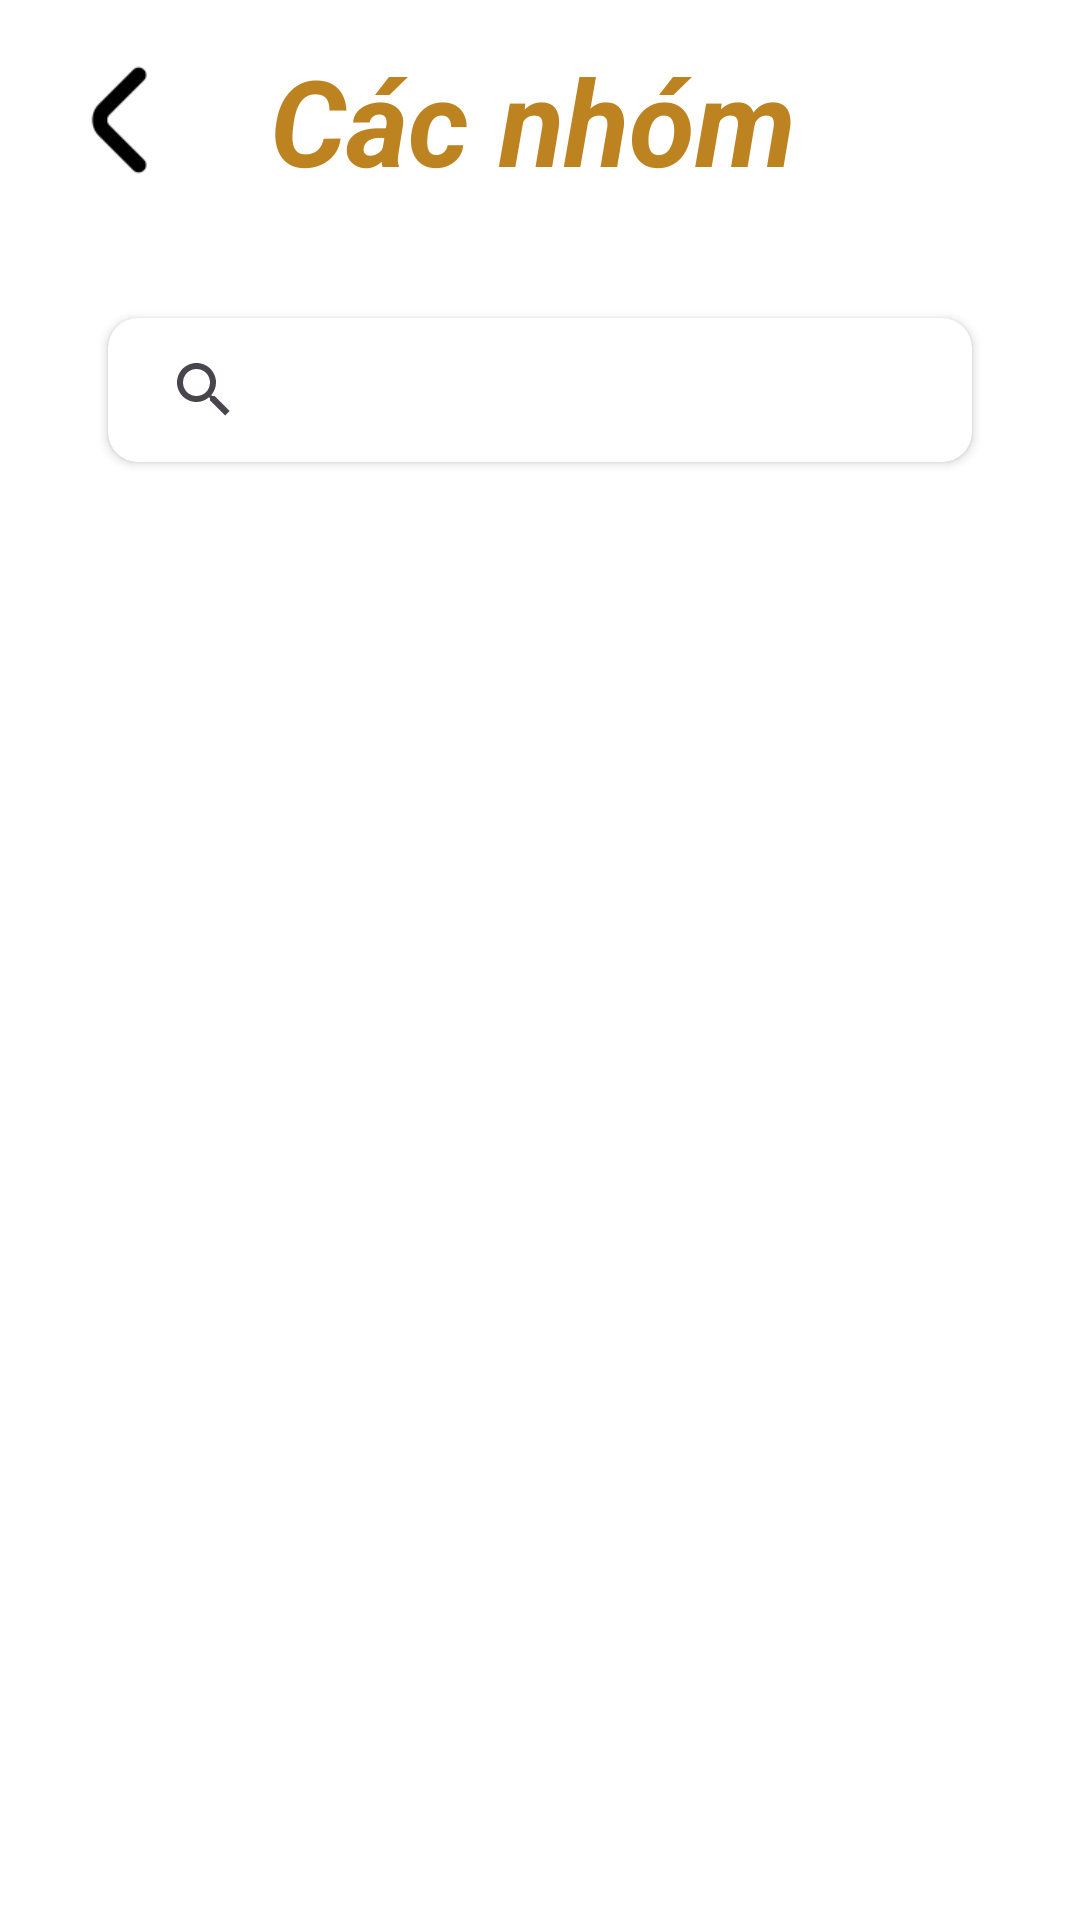

Point at icon controls on the screen. Image size 1080 x 1920, points as [x,y].
angle left: [119,120]
